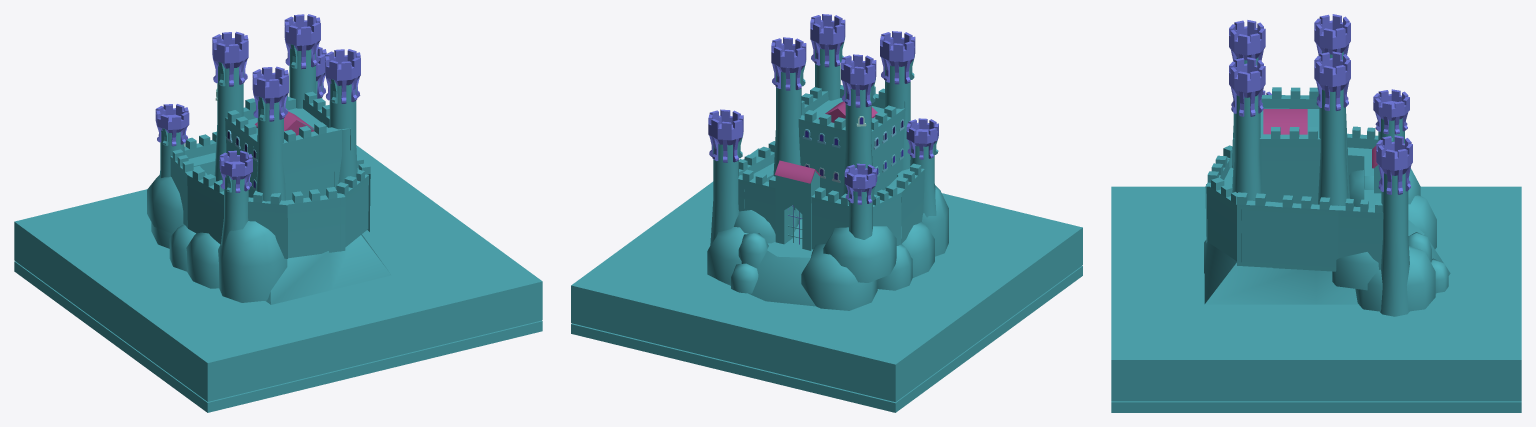
The model's file is castle green.fbx.
3 renders of one model, left to right at view 1: azimuth 30°, elevation 25°; view 2: azimuth 150°, elevation 25°; view 3: azimuth 270°, elevation 25°, orthographic. The views are drawn at different scales.
Visible parts, largest first — view 1: Cylinder005; view 2: Cylinder005; view 3: Cylinder005.
Part boxes in pixels (left/top/right/bottom): Cylinder005: left=14, top=14, right=542, bottom=412; Cylinder005: left=571, top=14, right=1082, bottom=412; Cylinder005: left=1111, top=14, right=1521, bottom=412.
Size of the model in its own units: 70 by 53.22 by 70.03.
